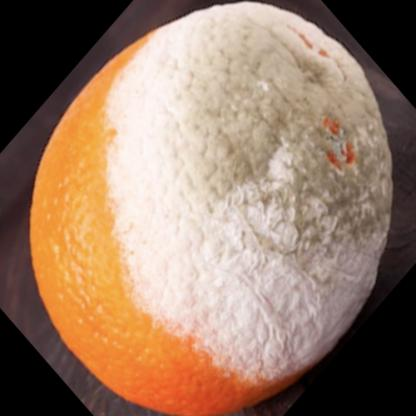rotten: (28, 1, 394, 416)
